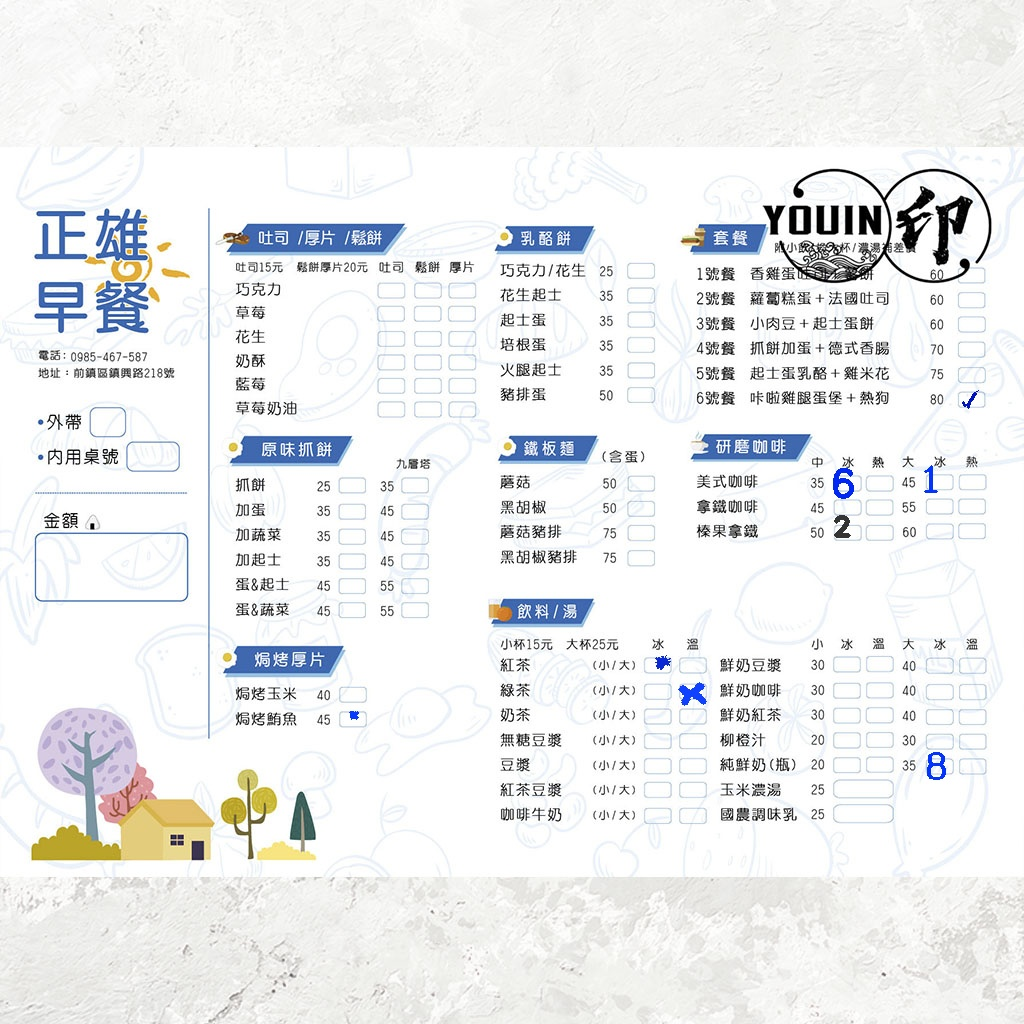marked_circle: (644, 657, 670, 671), (338, 711, 364, 725)
marked_number_1: (925, 474, 951, 488)
marked_number_2: (834, 524, 860, 538)
marked_number_6: (833, 476, 859, 490)
marked_number_8: (925, 759, 951, 773)
marked_tick: (958, 391, 984, 405)
marked_x: (678, 686, 704, 700)
